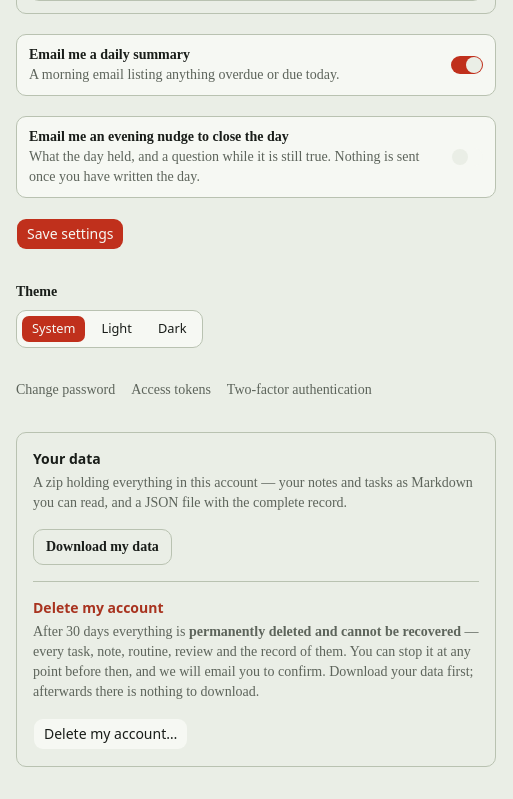
PreferencesRoute — leaving › reports a refused password instead of looking like it worked
(page scrolled)
Click the button "Delete my account…": (111, 734) [33, 718, 188, 750]
(page scrolled)
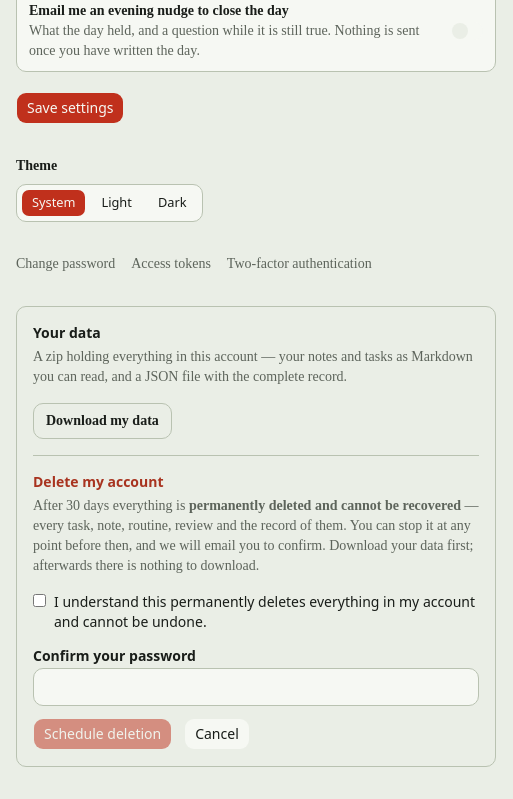
In the password field labelled "Confirm your password": (256, 687) [33, 668, 479, 706], type "wrong"
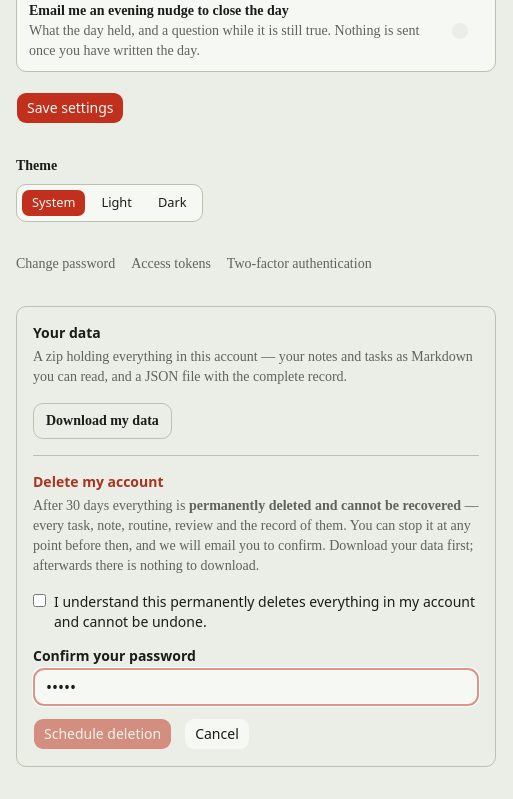
Click the checkbox: (40, 600) [33, 594, 46, 607]
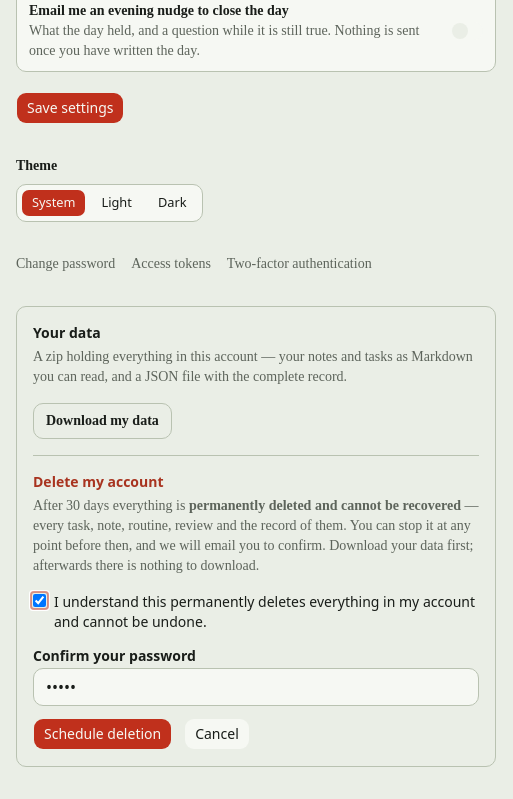
Click the button "Schedule deletion": (103, 734) [33, 718, 172, 750]
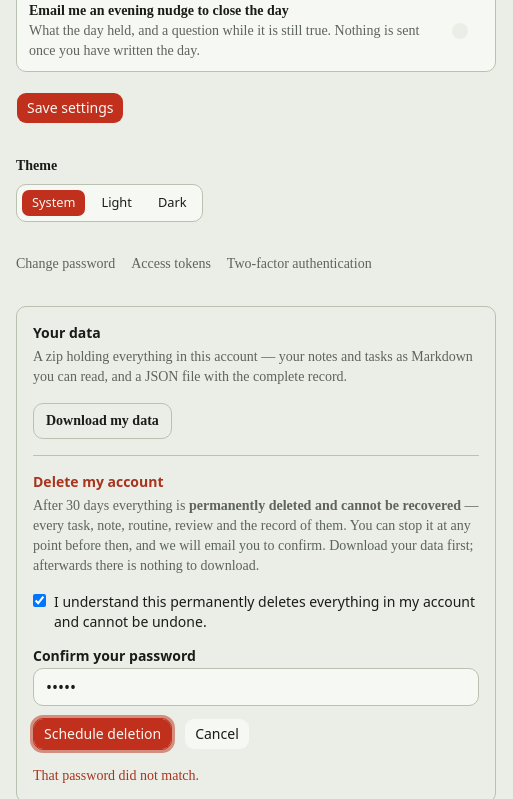
Expected: the text "That password did not match." is shown, [33, 768, 199, 783]
